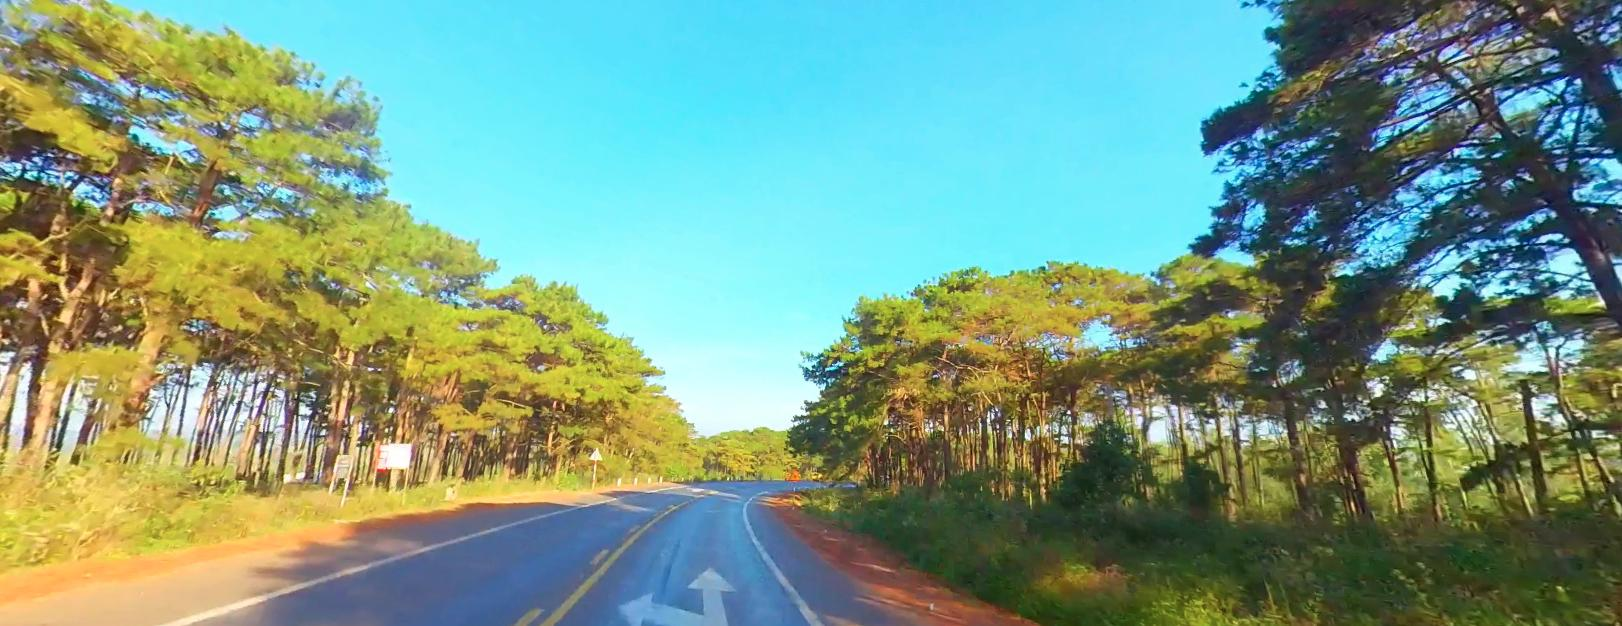Nguy hiem: (787, 464, 800, 479), (787, 467, 801, 480)
